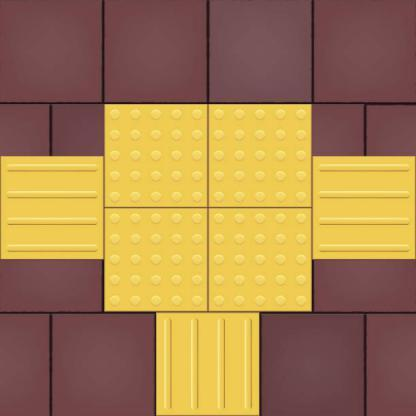podotacti: (1, 102, 415, 414)
